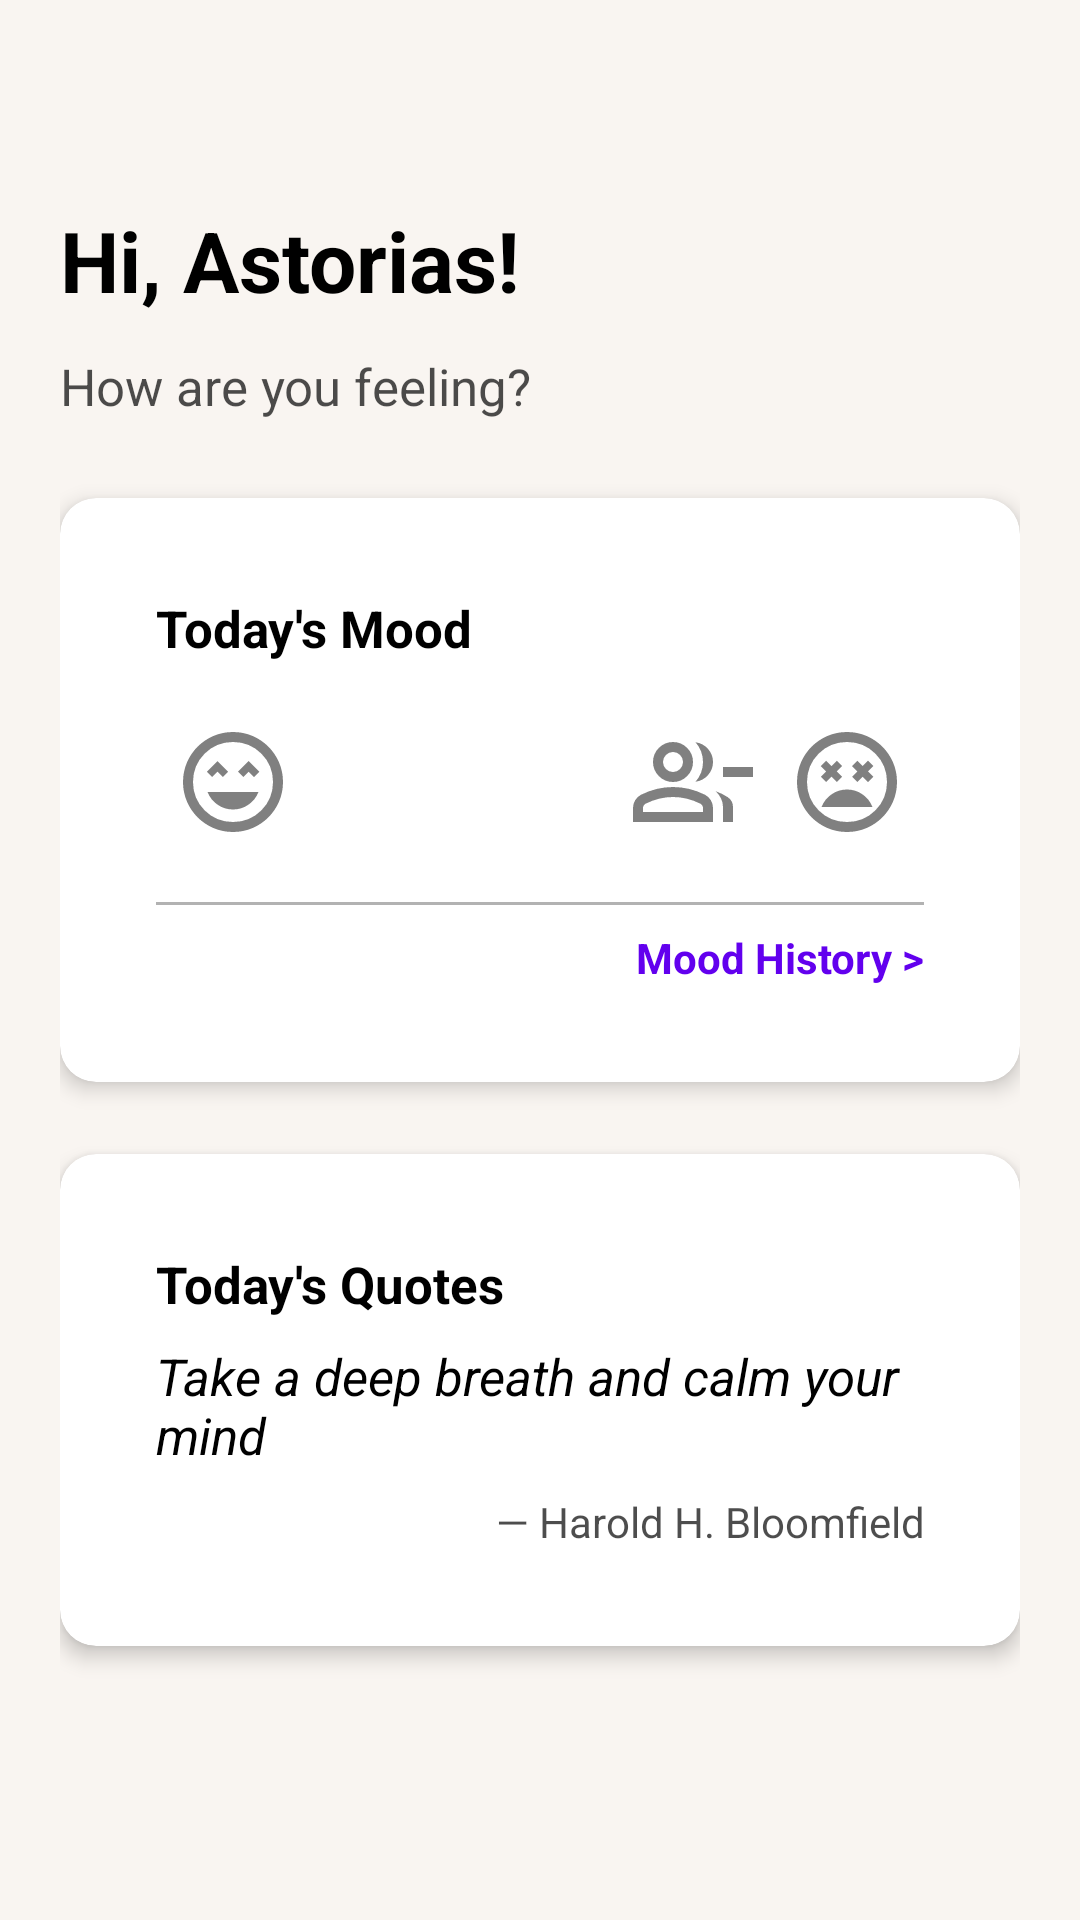

Locate icon controls on the screen. Image size 1080px x 1920px, boxes as rect(x1, y1, x2, y2).
Very Bad: rect(797, 732, 897, 832)
Very Good: rect(183, 732, 283, 832)
